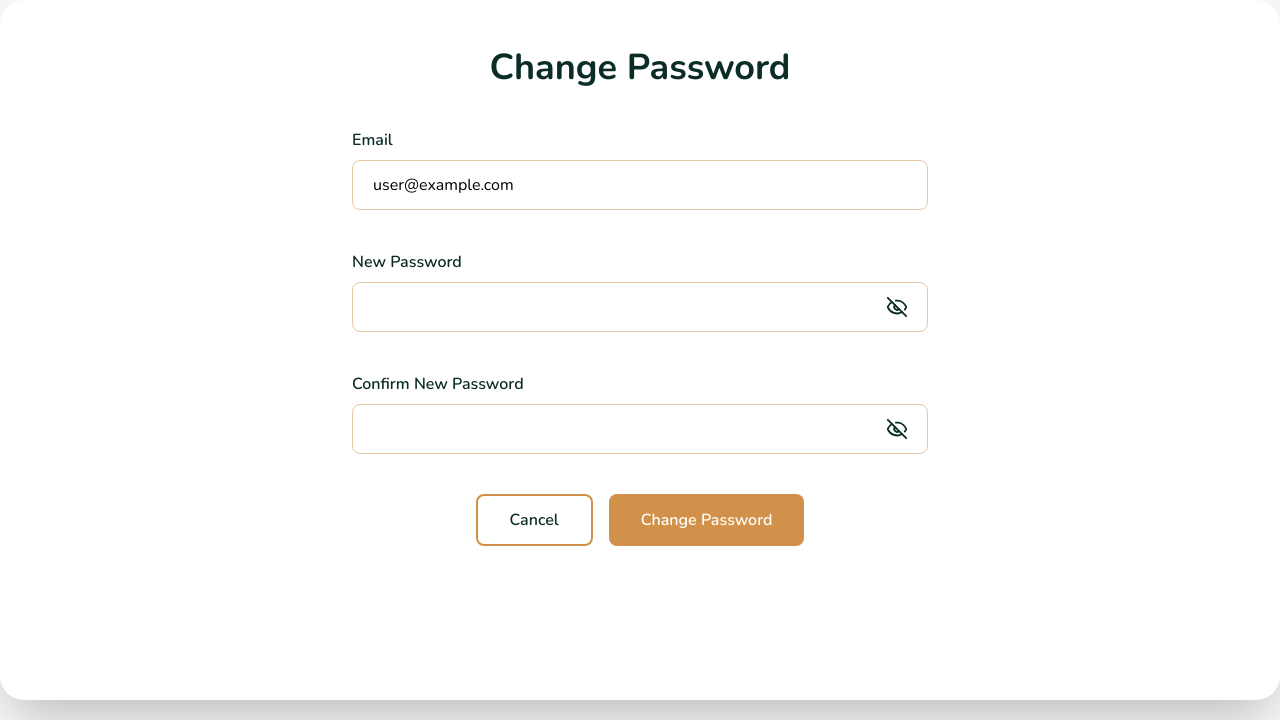
ChangePasswordForm › shows local error if passwords do not match
Type "pass1" into the password field labelled "New Password" at (640, 307), box x1=352 y1=282 x2=928 y2=332
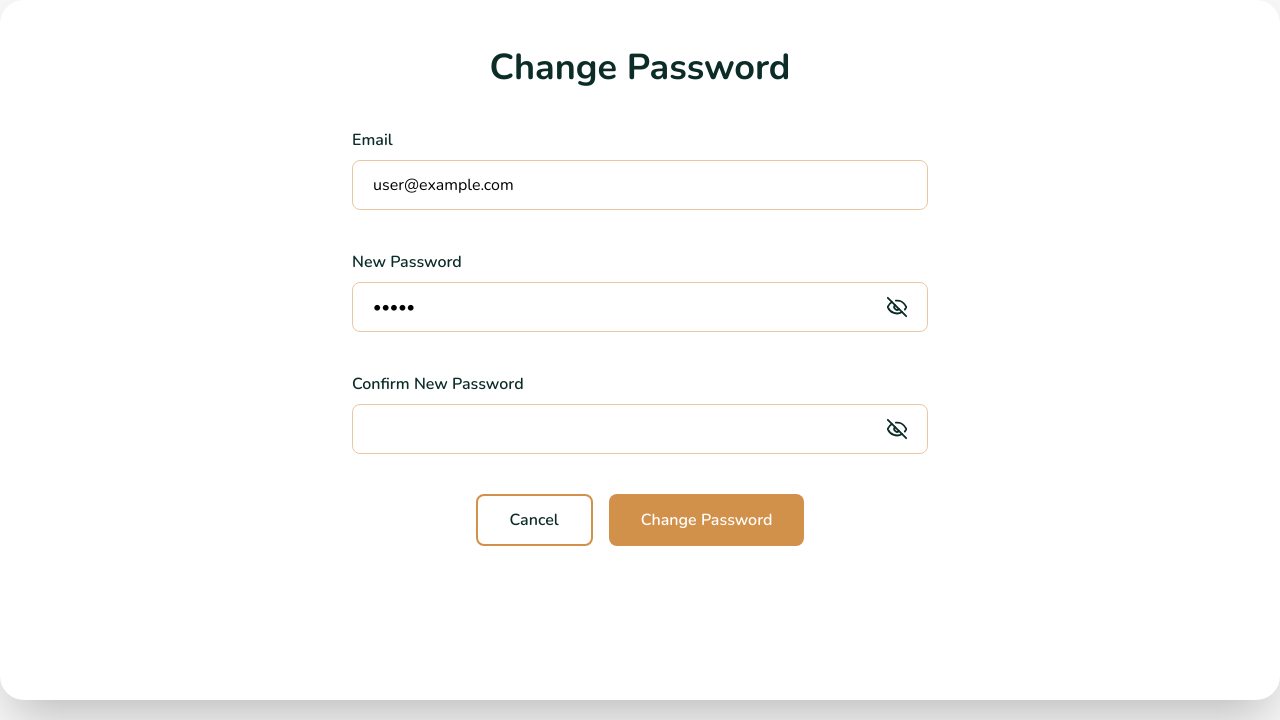
Type "pass2" into the password field labelled "Confirm New Password" at (640, 429), box x1=352 y1=404 x2=928 y2=454
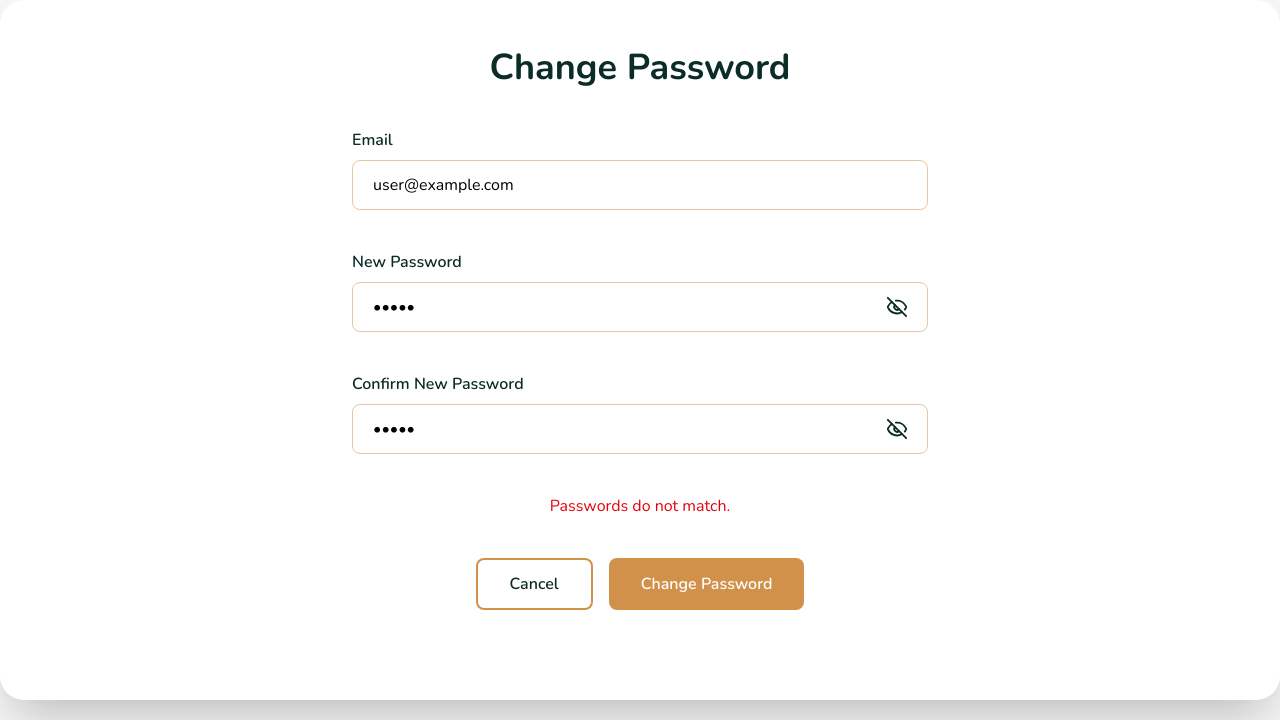
Submit the form from the button "Change Password", box x1=609 y1=558 x2=804 y2=610
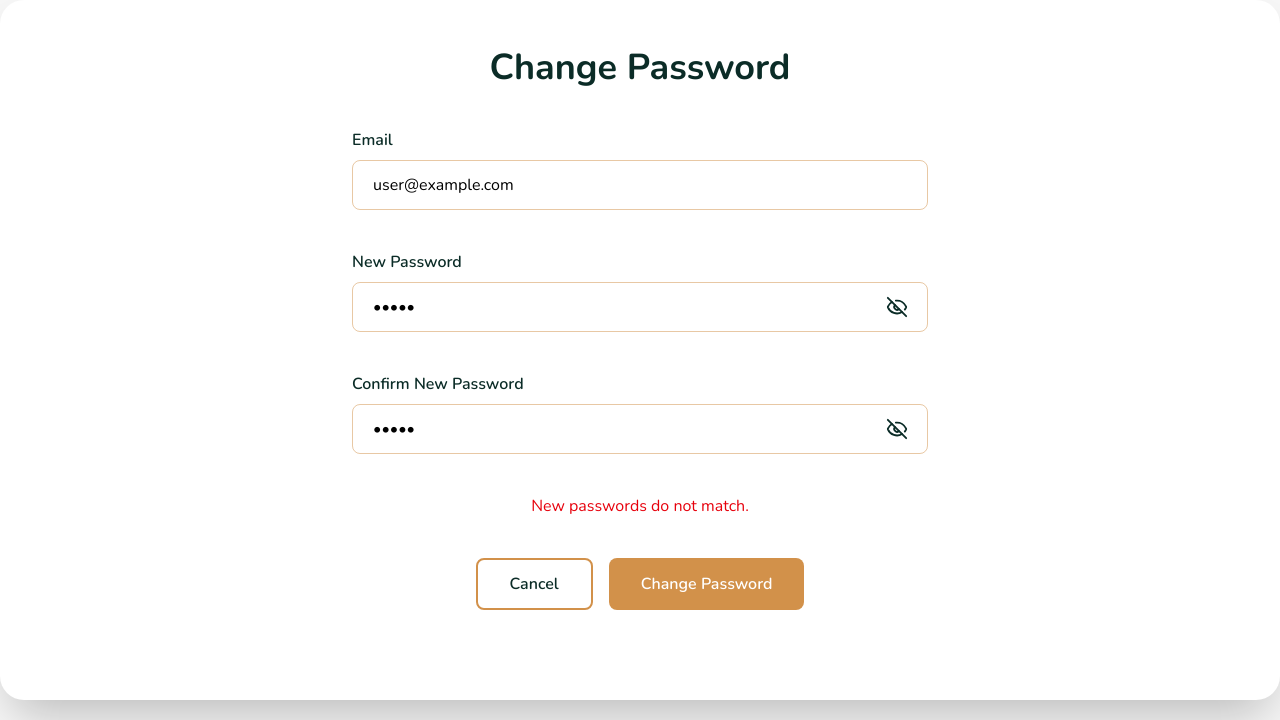
Result: the text "New passwords do not match." is shown at x1=531 y1=495 x2=749 y2=517
